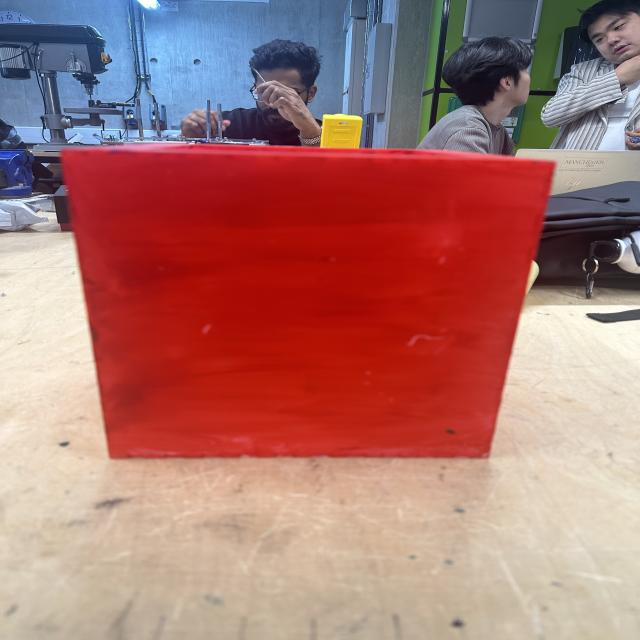red_bin: (61, 142, 558, 460)
